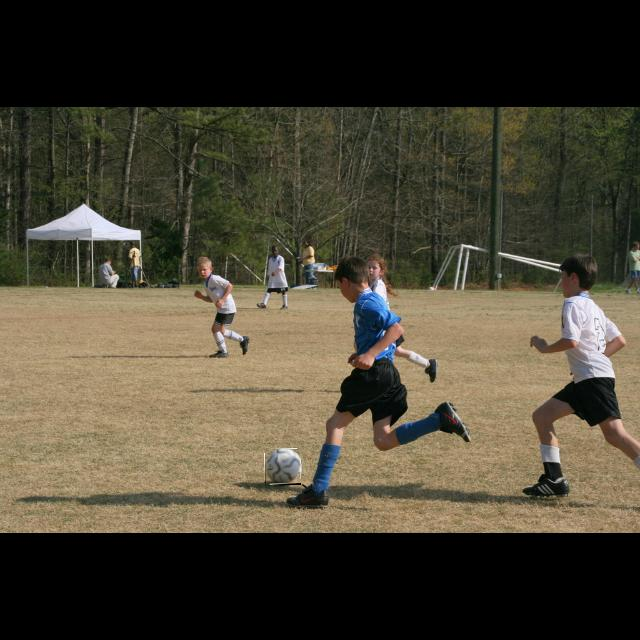Football: (265, 449, 301, 485)
